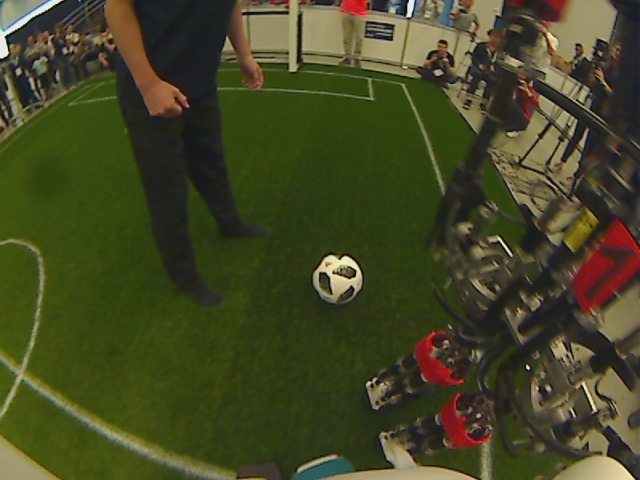ball: (313, 250, 362, 307)
